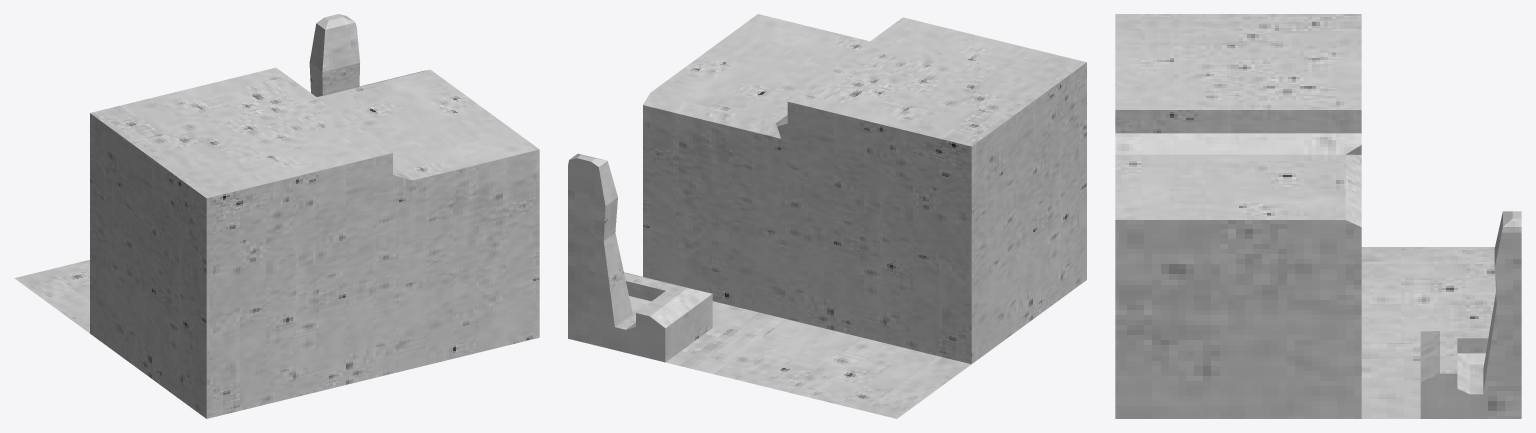
The model's file is fountaintile1glb.glb.
The picture shows the model from 3 angles, left to right: view 1: azimuth 30°, elevation 25°; view 2: azimuth 150°, elevation 25°; view 3: azimuth 270°, elevation 25°; orthographic projection. The views are drawn at different scales.
Visible parts, largest first — view 1: corner1; view 2: corner1; view 3: corner1.
Part boxes in pixels (x1,y1,x2,y2): corner1: [14, 14, 539, 418]; corner1: [568, 14, 1086, 418]; corner1: [1115, 14, 1521, 418].
Size of the model in its own units: 2 by 1.27 by 2.
Materials: 1 (1 with a texture image).
